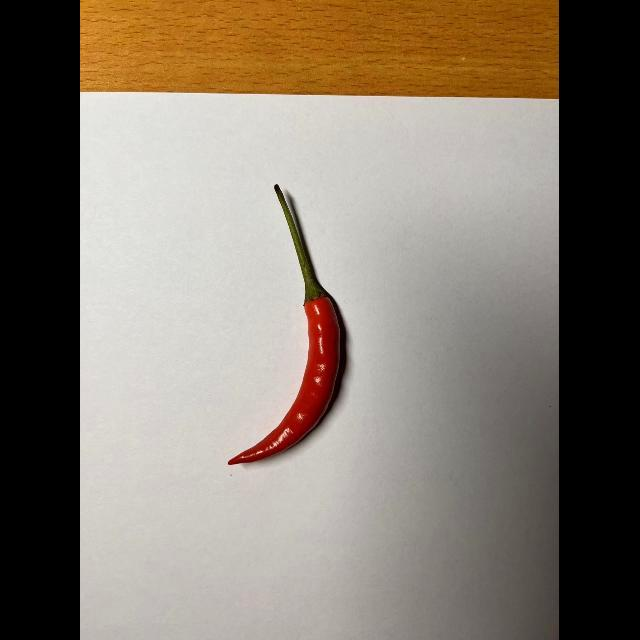chili_pepper: (226, 178, 356, 472)
